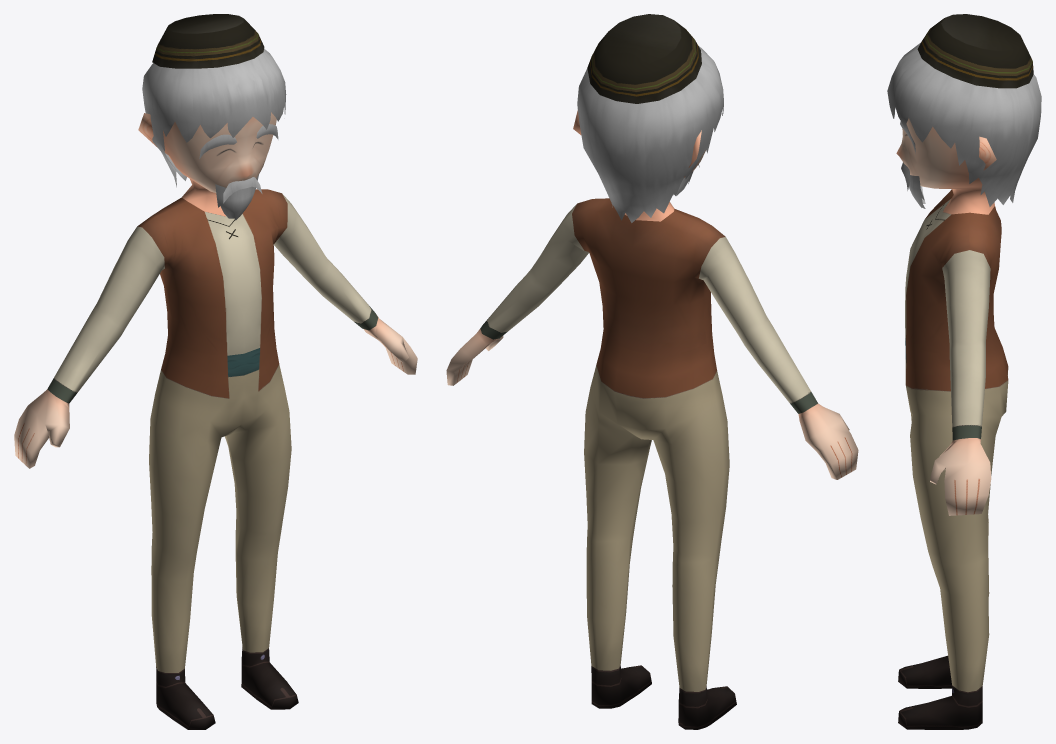
3 renders of one model, left to right at view 1: azimuth 30°, elevation 25°; view 2: azimuth 150°, elevation 25°; view 3: azimuth 270°, elevation 25°, orthographic. The views are drawn at different scales.
Visible parts, largest first — view 1: Peasant Elder Halden, Hat, Beard; view 2: Peasant Elder Halden, Hat; view 3: Peasant Elder Halden, Hat, Beard.
Part boxes in pixels (bbox=[...]): Peasant Elder Halden: bbox=[14, 49, 417, 729]; Hat: bbox=[152, 14, 264, 68]; Beard: bbox=[215, 174, 258, 220]; Peasant Elder Halden: bbox=[446, 46, 858, 729]; Hat: bbox=[587, 14, 701, 103]; Peasant Elder Halden: bbox=[887, 42, 1041, 729]; Hat: bbox=[917, 14, 1033, 88]; Beard: bbox=[909, 175, 925, 208].
Bounding box in the file's own units: 197 × 329 × 67.71.
